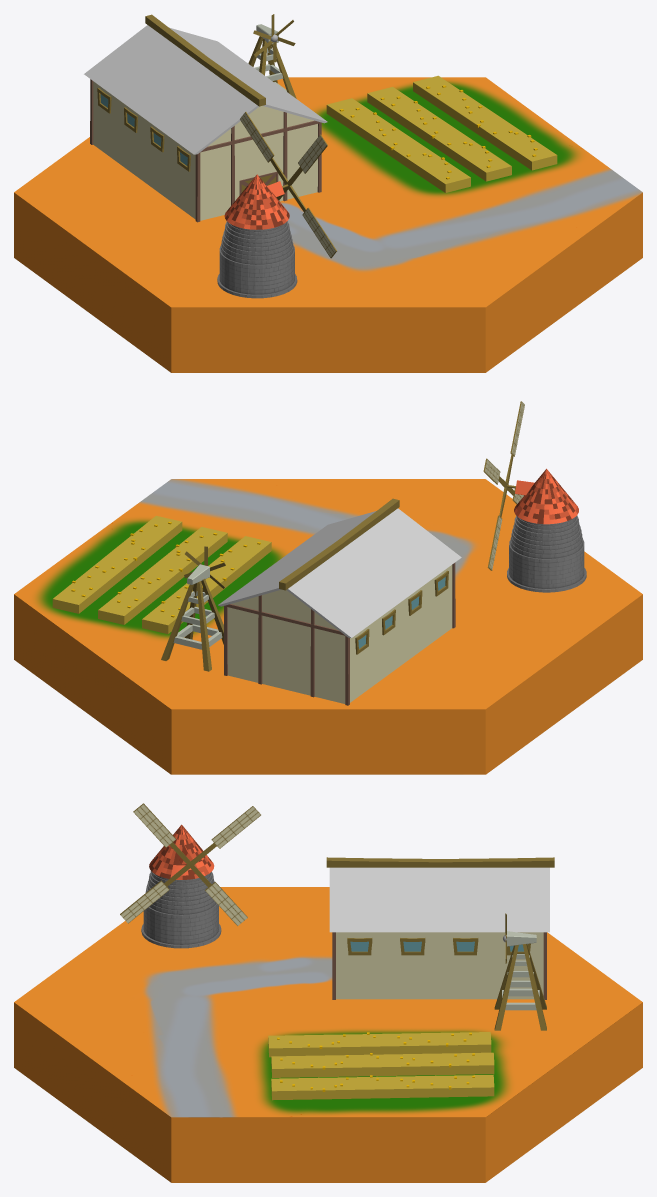
File: Tuile_Champ_Village_N3.fbx
The picture shows the model from 3 angles, top to bottom: view 1: azimuth 30°, elevation 25°; view 2: azimuth 150°, elevation 25°; view 3: azimuth 270°, elevation 25°; orthographic projection.
Visible parts, largest first — view 1: Circle, poutre toit.001, Cube.003, nIV2.001, Cylinder.001, Cone.001, Cube.002, Sphere; view 2: Circle, poutre toit.001, Cube.003, nIV2.001, Cylinder.001, Sphere, Cone.001, Cube.002; view 3: Circle, poutre toit.001, nIV2.001, Cube.003, Cylinder.001, Cube.002, Sphere, Cone.001.
Boxes of the visible parts, box(x1,y1,x2,y2) form: Circle: box(14, 77, 642, 372); poutre toit.001: box(90, 14, 321, 222); Cube.003: box(84, 25, 327, 154); nIV2.001: box(326, 75, 557, 192); Cylinder.001: box(217, 221, 297, 298); Cone.001: box(224, 174, 289, 229); Cube.002: box(240, 112, 336, 258); Sphere: box(248, 14, 296, 98); Circle: box(14, 479, 642, 774); poutre toit.001: box(224, 498, 455, 705); Cube.003: box(218, 508, 461, 637); nIV2.001: box(52, 515, 271, 633); Cylinder.001: box(507, 515, 586, 592); Sphere: box(161, 546, 225, 671); Cone.001: box(514, 468, 578, 524); Cube.002: box(483, 401, 524, 570); Circle: box(14, 887, 642, 1182); poutre toit.001: box(326, 857, 554, 999); nIV2.001: box(268, 1032, 494, 1100); Cube.003: box(329, 867, 549, 932); Cylinder.001: box(141, 871, 221, 948); Cube.002: box(120, 803, 260, 925); Sphere: box(494, 913, 546, 1030); Cone.001: box(149, 824, 214, 879).
Bounding box in the file's own units: 107 × 46.73 × 124.
